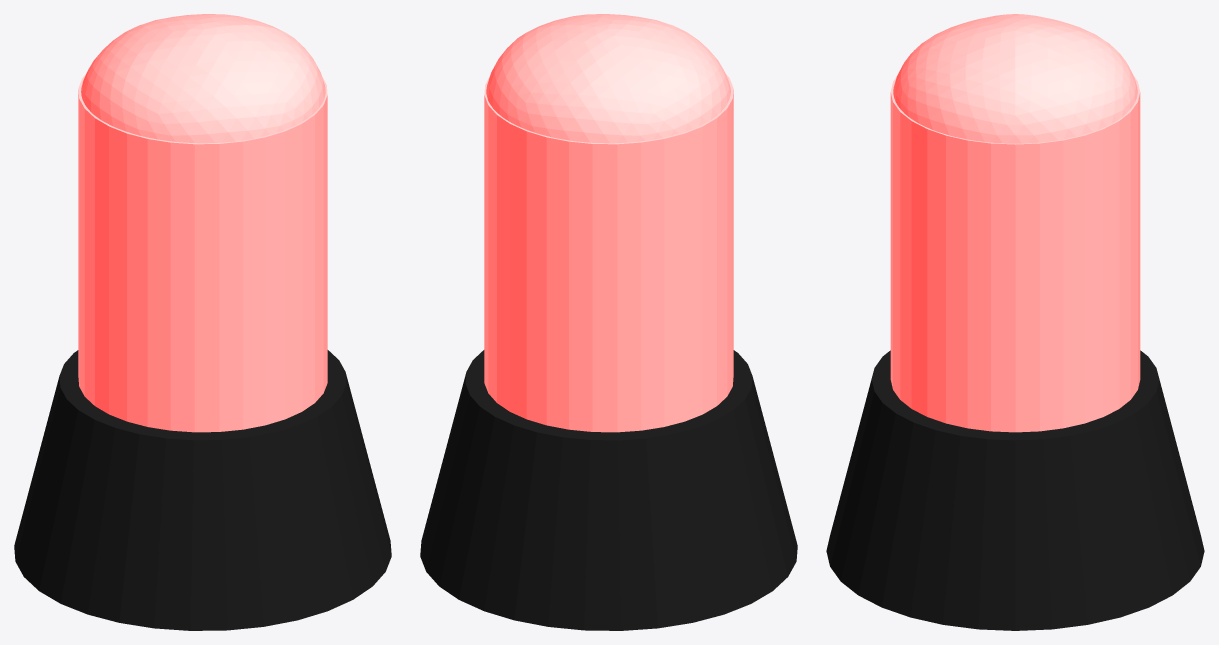
File: W Light.gltf
3 renders of one model, left to right at view 1: azimuth 30°, elevation 25°; view 2: azimuth 150°, elevation 25°; view 3: azimuth 270°, elevation 25°, orthographic.
Visible parts, largest first — view 1: Cylinder.001, Cylinder, Icosphere; view 2: Cylinder.001, Cylinder, Icosphere; view 3: Cylinder.001, Cylinder, Icosphere.
Boxes of the visible parts, box(x1,y1,x2,y2) form: Cylinder.001: box(78, 74, 327, 432); Cylinder: box(14, 350, 391, 630); Icosphere: box(81, 14, 325, 143); Cylinder.001: box(484, 74, 733, 432); Cylinder: box(420, 350, 797, 630); Icosphere: box(486, 14, 730, 143); Cylinder.001: box(890, 76, 1140, 432); Cylinder: box(826, 350, 1204, 630); Icosphere: box(893, 14, 1137, 143).
Bounding box in the file's own units: 2 × 3.04 × 2.
